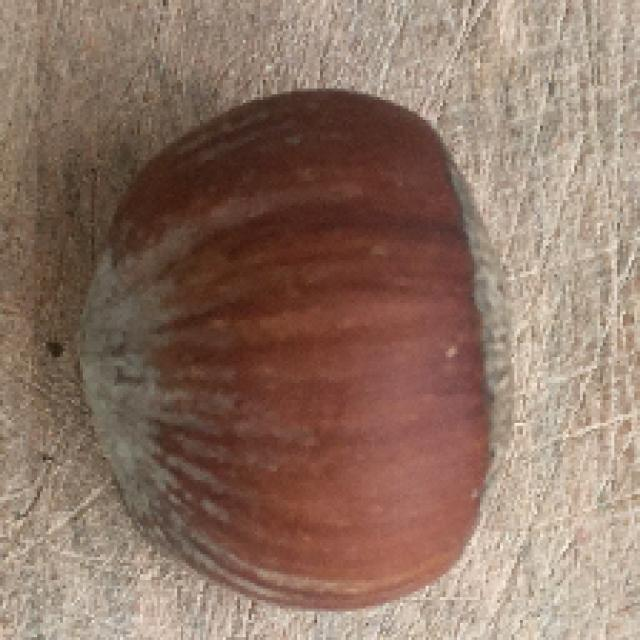qualityHazelnut: (70, 89, 512, 614)
